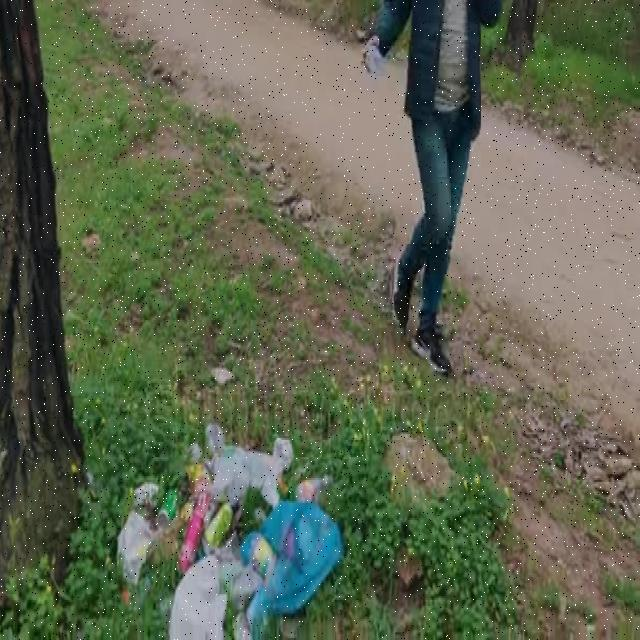garbage_dumping: (362, 38, 389, 82)
